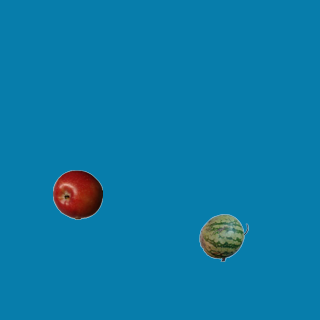Apple Braeburn: (52, 169, 102, 219)
Watermelon: (198, 212, 248, 262)
